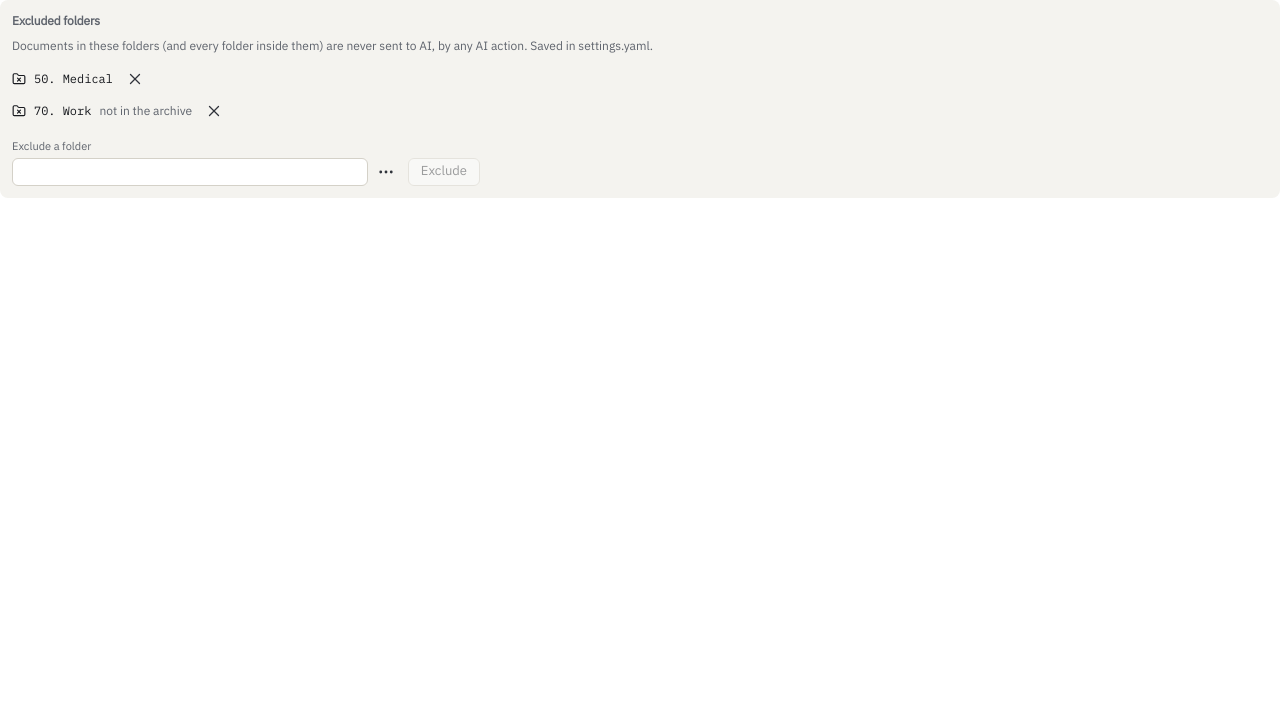
Test: Excluded folders (Activity → AI) › removing one asks first (its documents can then be sent); Cancel saves nothing
This screenshot has width=1280, height=720.
Step 1. Click the button named "Stop excluding 50. Medical" → x=135, y=79, box [121,65,149,93]
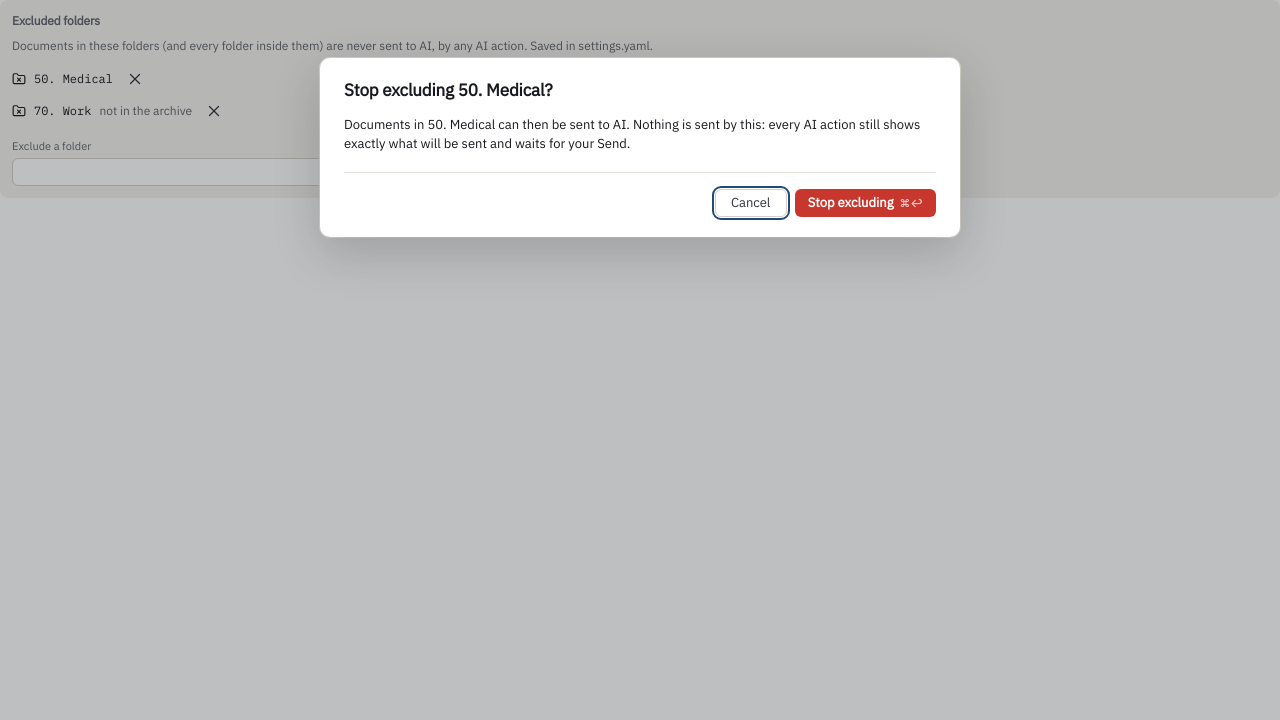
Result: the dialog "Stop excluding 50. Medical?" shows "can then be sent to AI" at [344,116,920,152]
Step 2. Click the button "Cancel" → x=751, y=203, box [715,189,787,217]
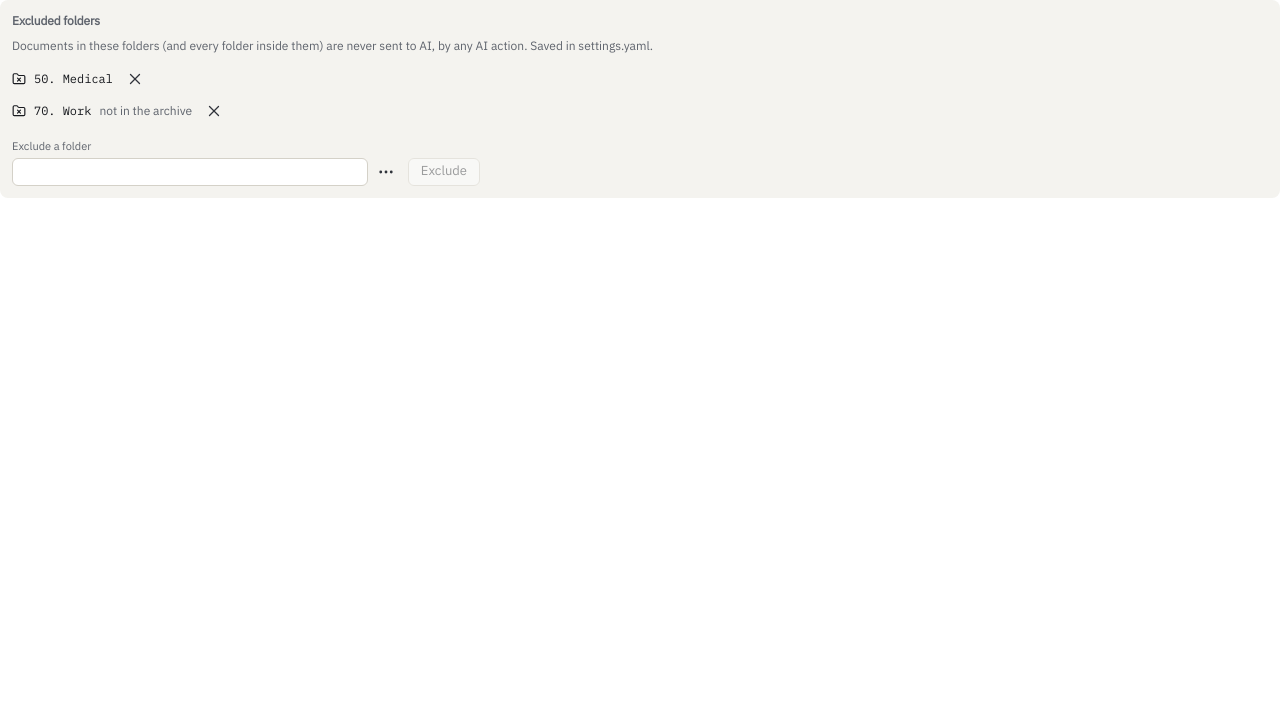
Step 3. Click the button named "Stop excluding 50. Medical" → x=135, y=79, box [121,65,149,93]
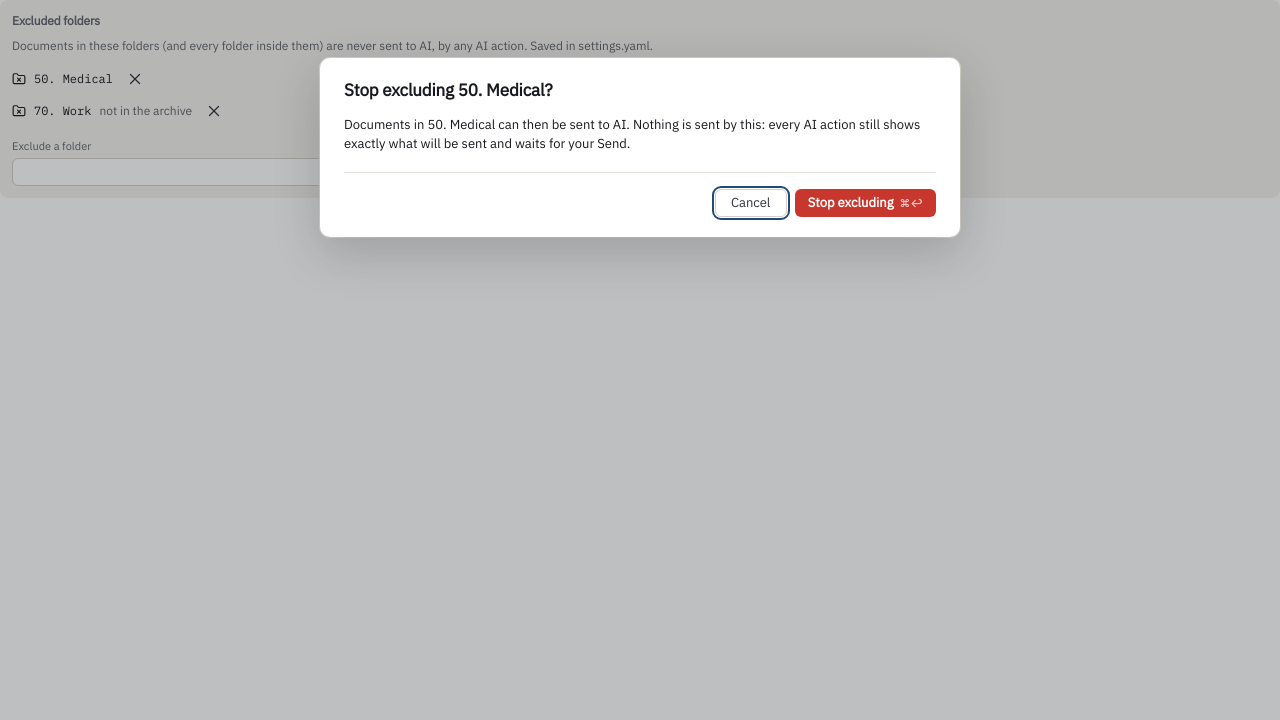
Step 4. Click the button "Stop excluding⌘↩" → x=865, y=203, box [795,189,936,217]
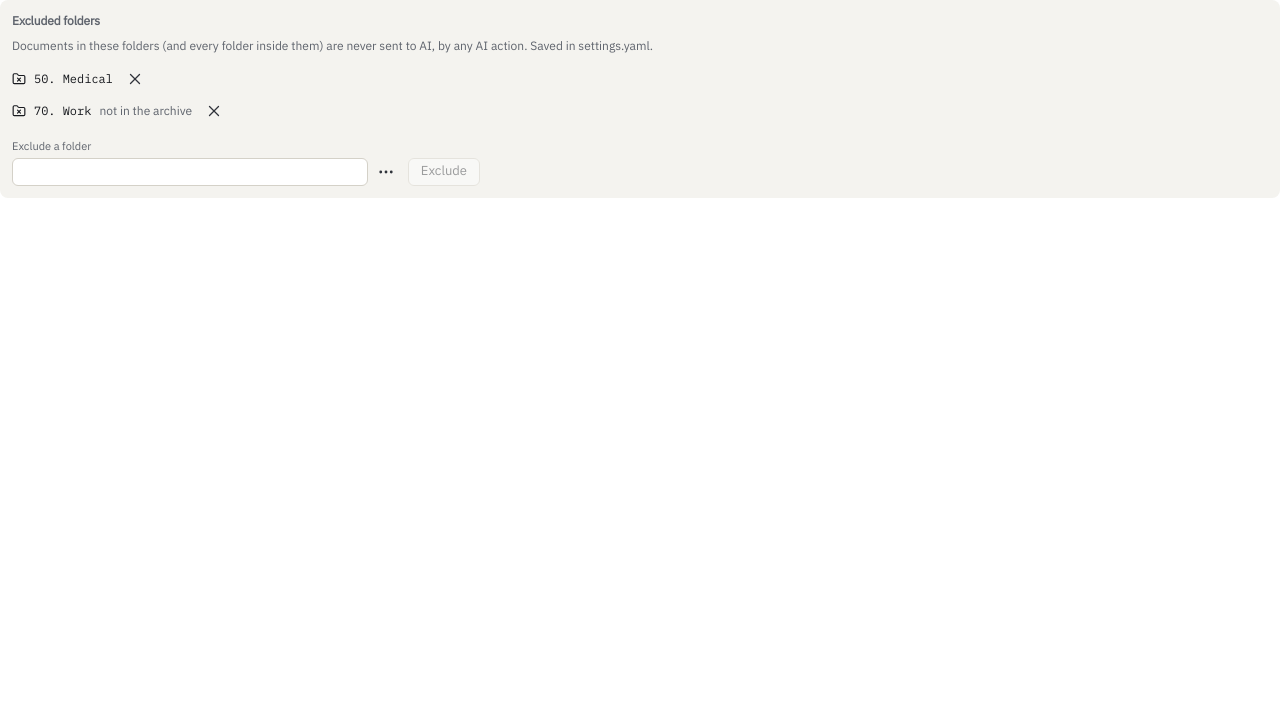
Result: the dialog is gone
